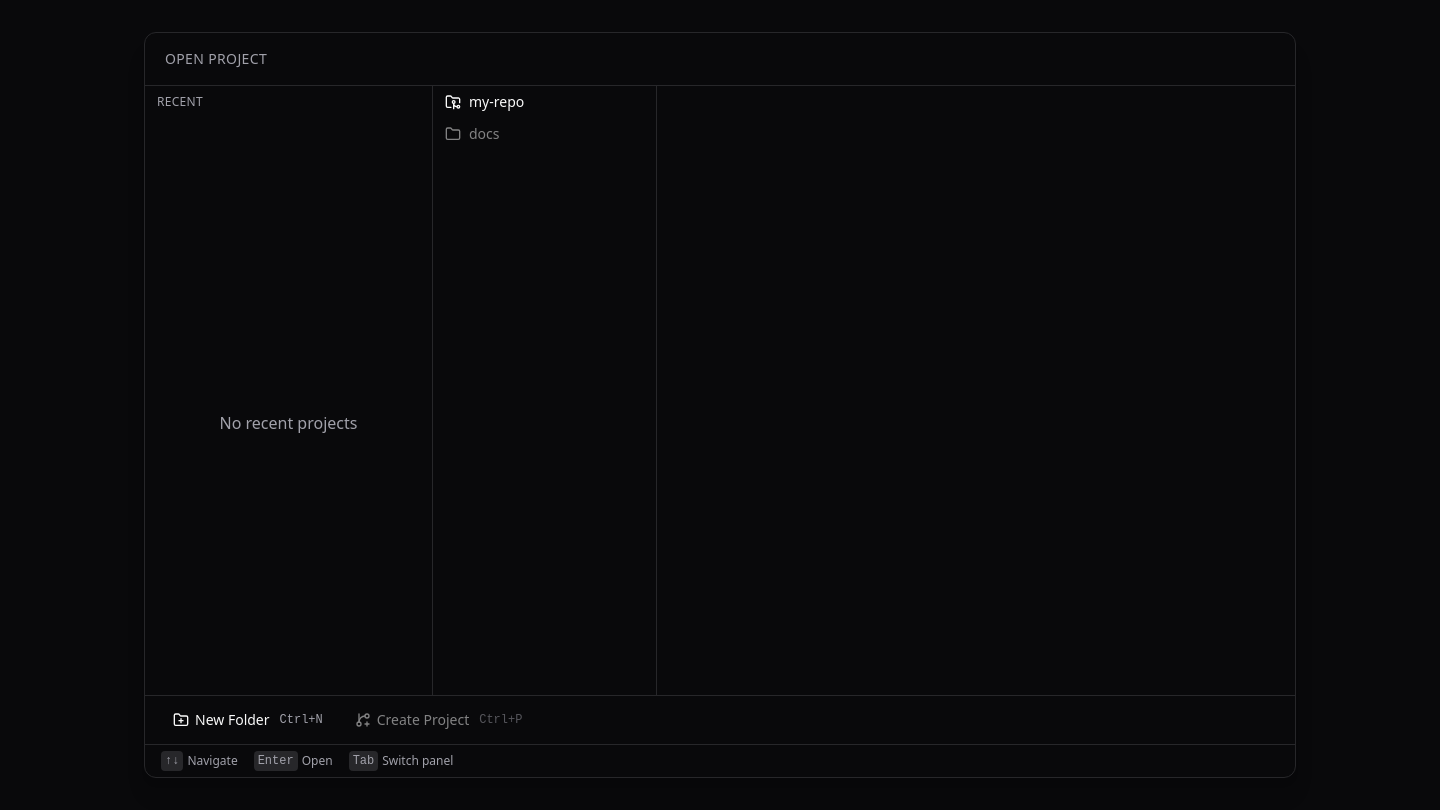
ProjectSelectionScreen › dismisses new-folder prompt on Escape
This screenshot has width=1440, height=810.
Expected: the text "my-repo" is shown, [469, 92, 524, 112]
Press Tab
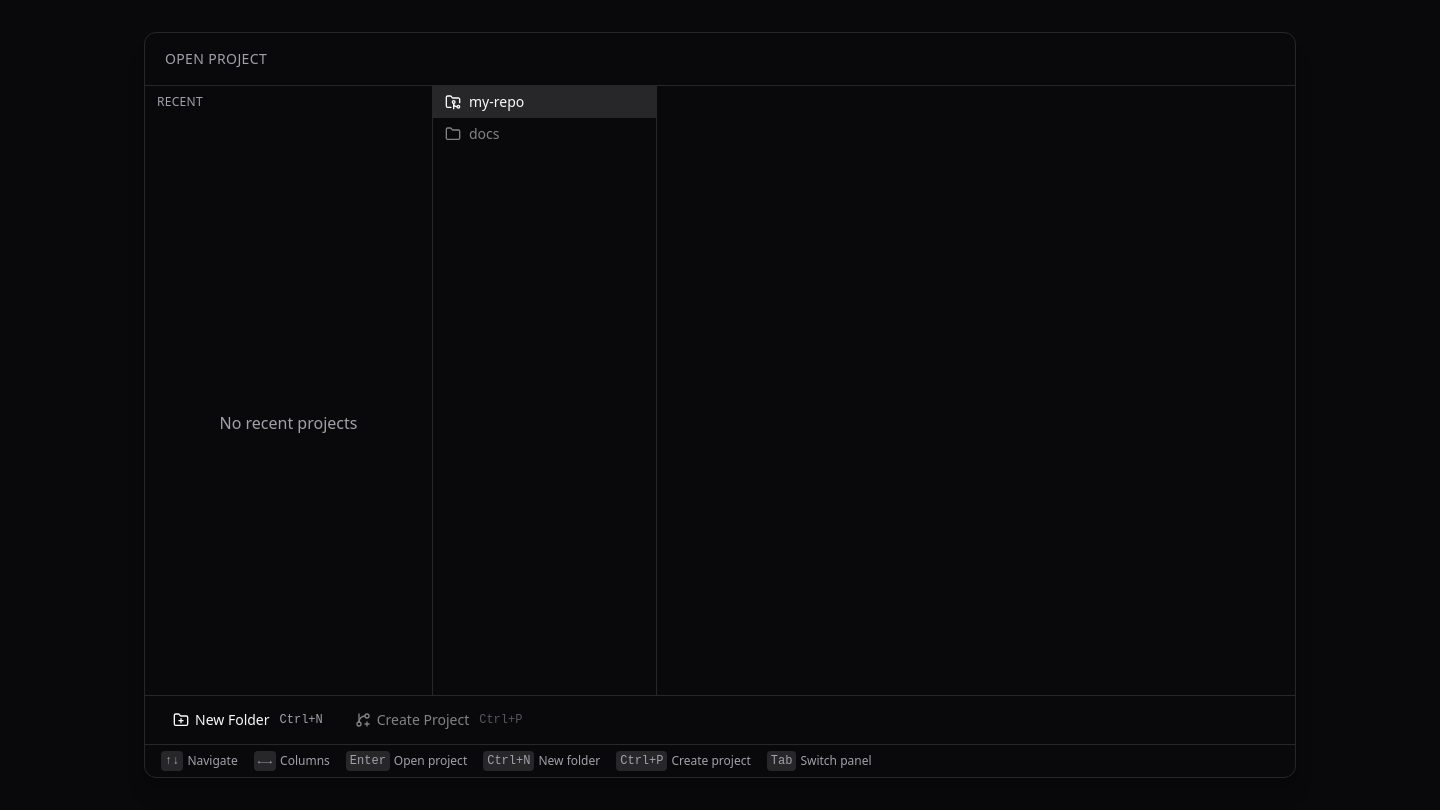
Click the button "New Folder Ctrl+N" at (248, 720), box [161, 704, 335, 736]
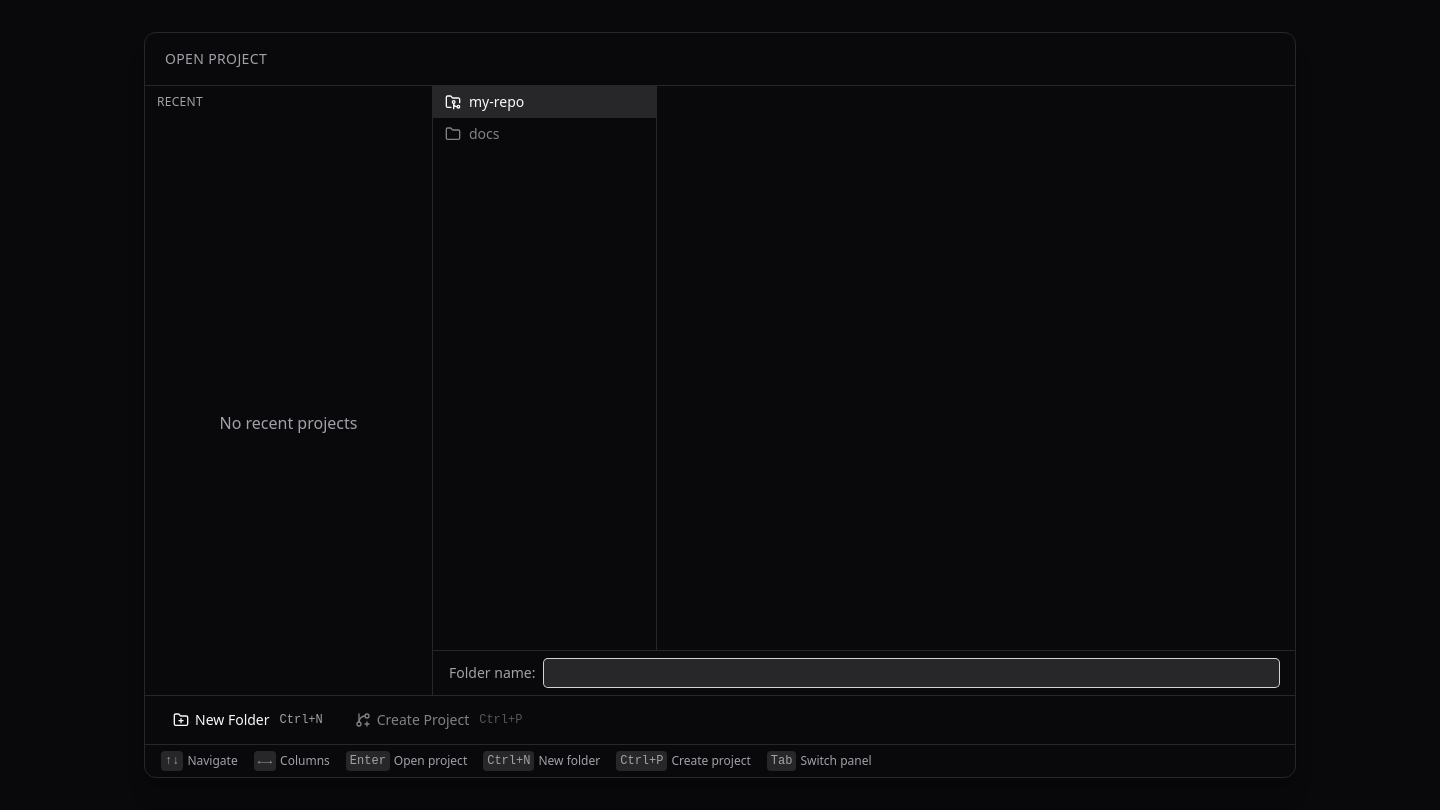
Now the field is shown
Press Escape in the field, box [544, 659, 1279, 687]
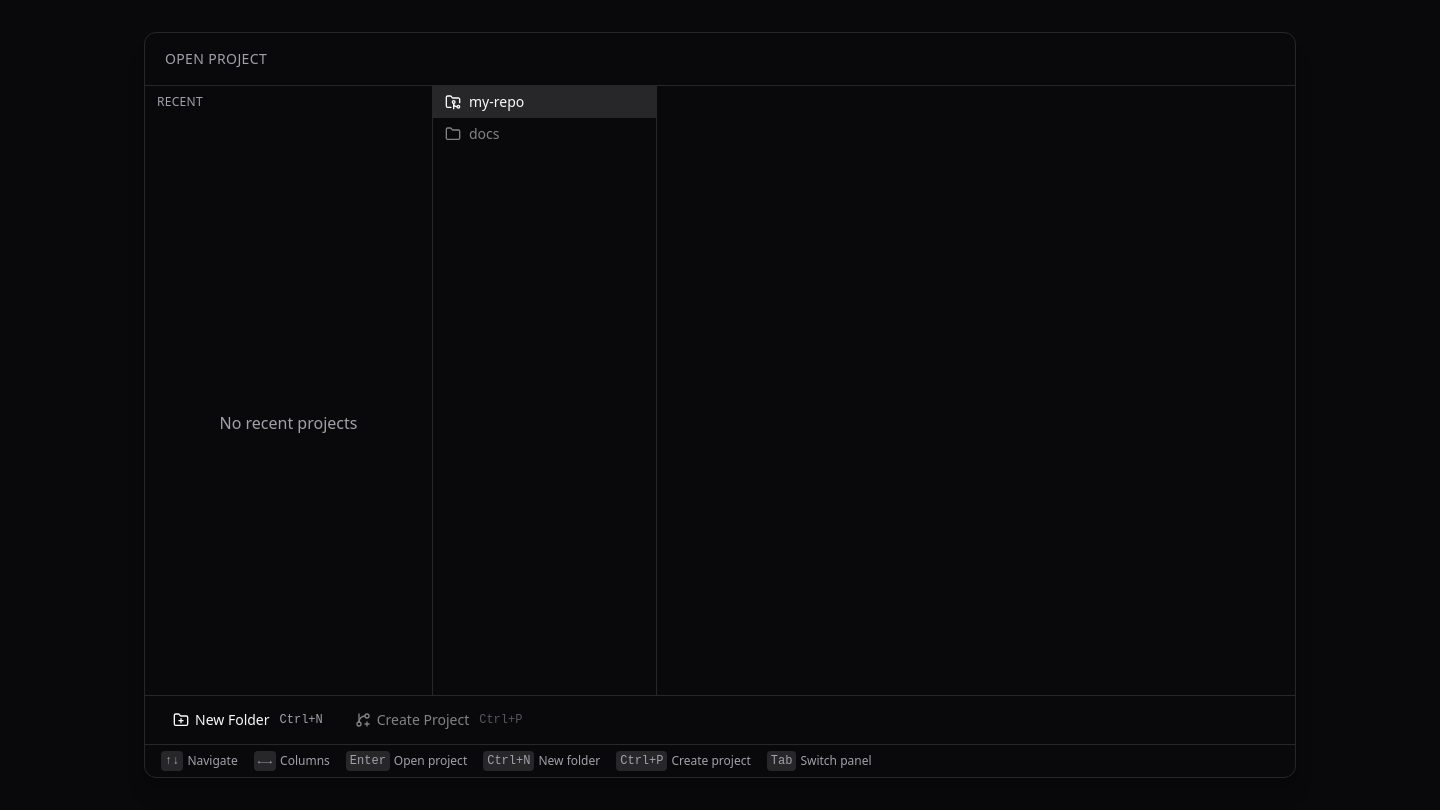
Now the field is gone
